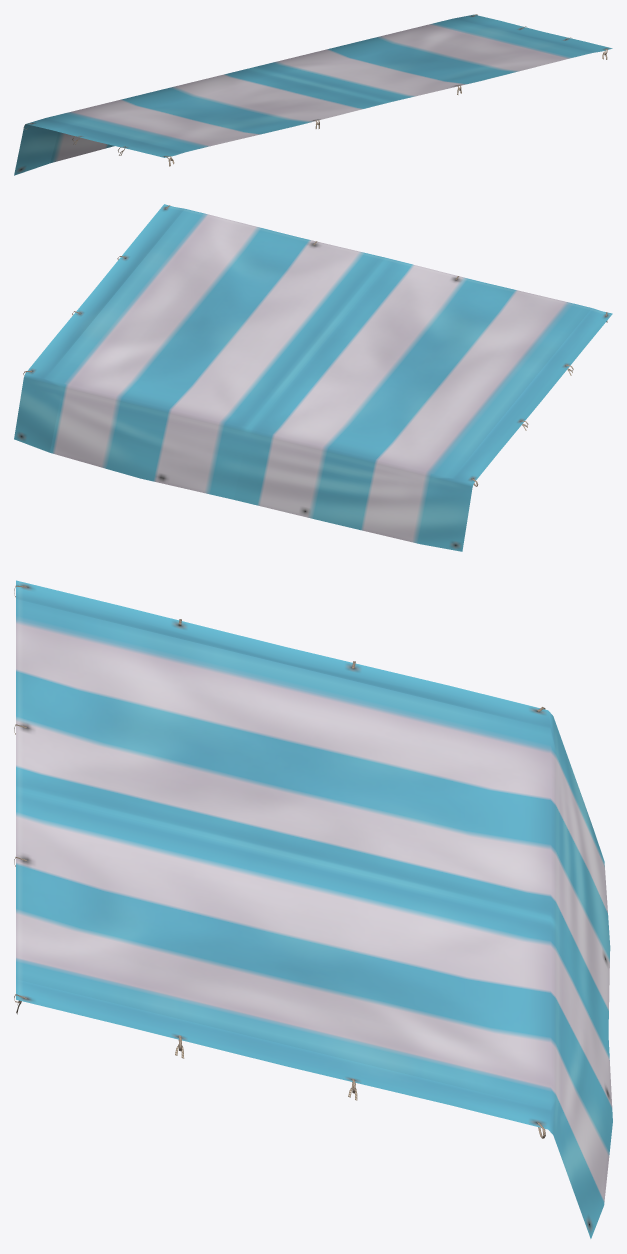
The model's file is jsf_Ceiling_s04_c02_t02.fbx.
3 views of the same model, one above another, from view 1: azimuth 30°, elevation 25°; view 2: azimuth 150°, elevation 25°; view 3: azimuth 270°, elevation 25° (orthographic). The views are drawn at different scales.
Parts seen in each view (by area): view 1: jsf_Ceiling_s04_c02_t02; view 2: jsf_Ceiling_s04_c02_t02; view 3: jsf_Ceiling_s04_c02_t02.
Boxes of the visible parts, x1,y1,x2,y2 form: jsf_Ceiling_s04_c02_t02: [14, 14, 612, 175]; jsf_Ceiling_s04_c02_t02: [14, 204, 612, 551]; jsf_Ceiling_s04_c02_t02: [14, 580, 612, 1238].
Size of the model in its own units: 394 by 106 by 234.
